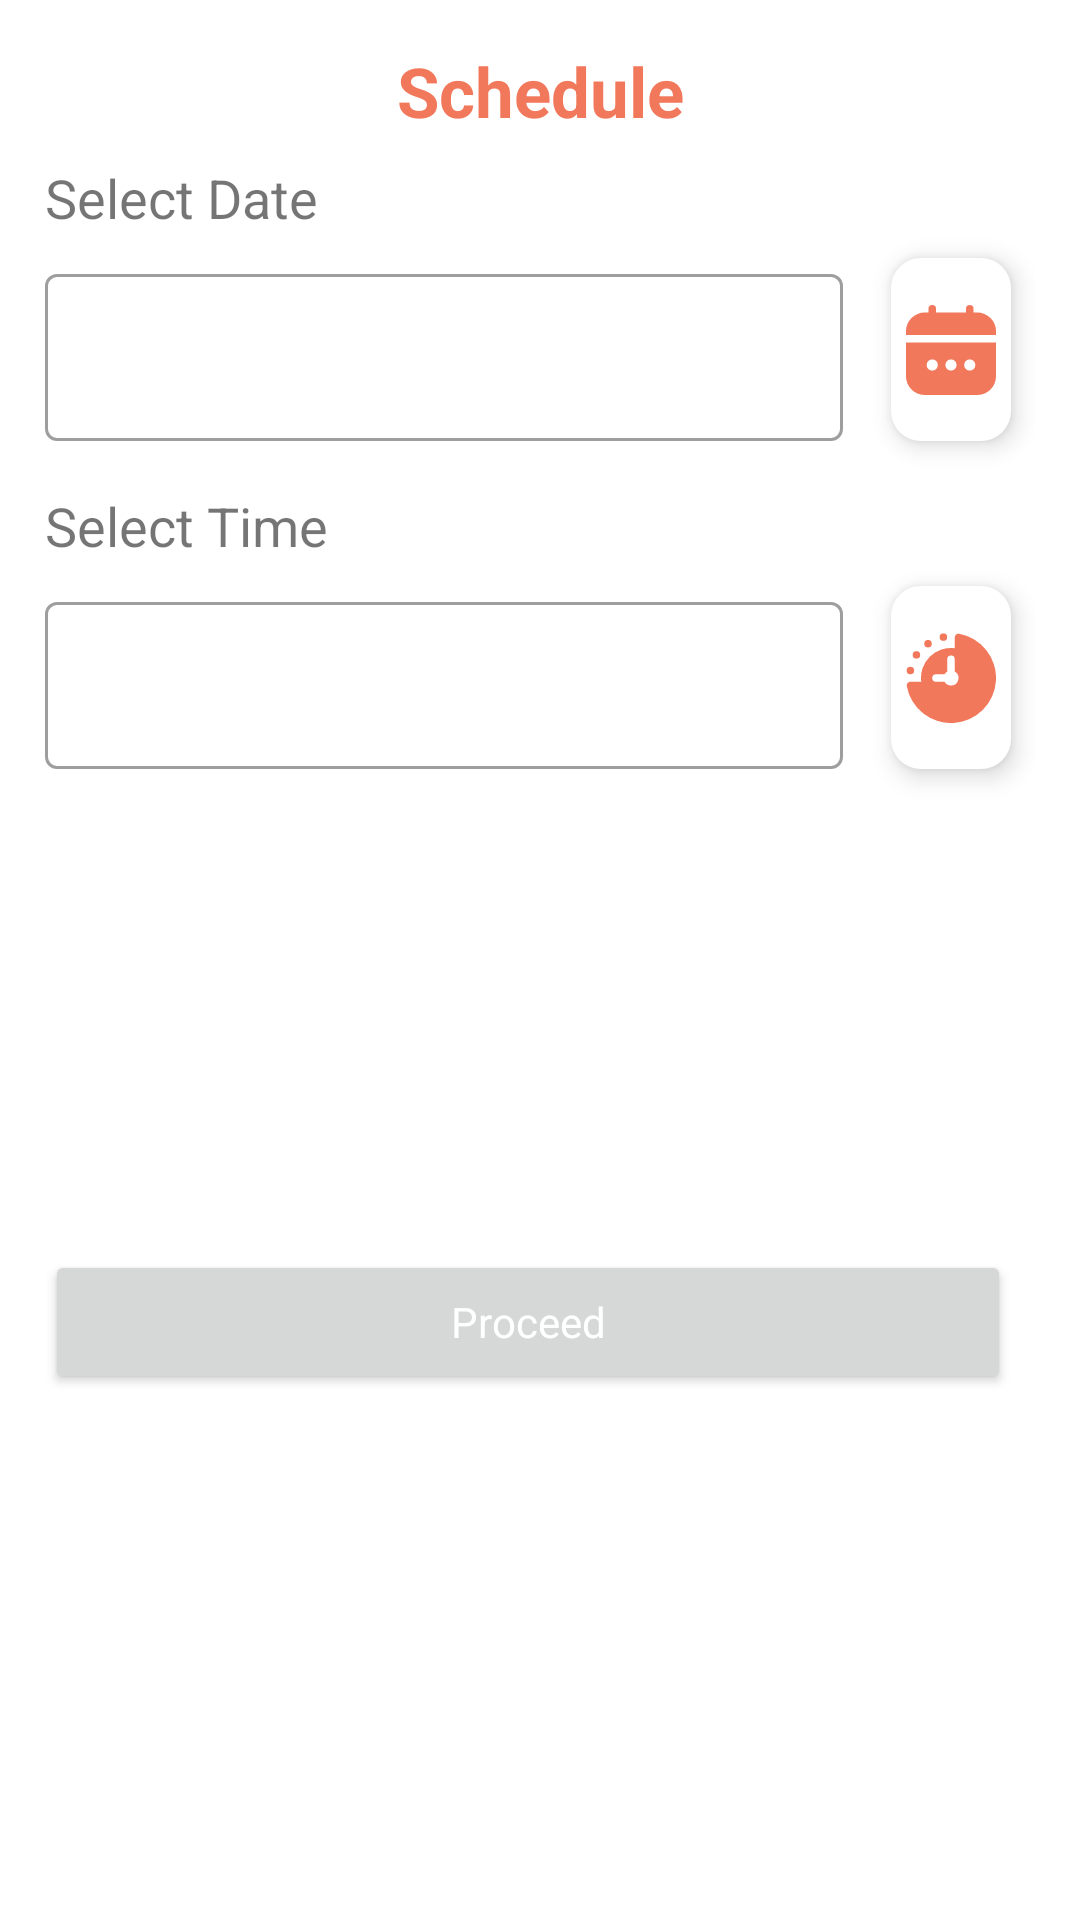

Icon bounding boxes for this 1080 × 1920 phone screenshot, format (x1, y1, x2, y2):
calendar: (906, 305, 996, 395)
time: (897, 605, 1011, 769)
